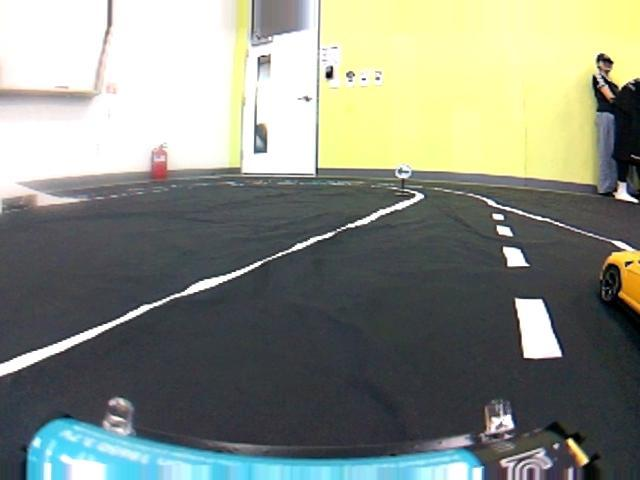car: (592, 238, 640, 374)
left: (0, 209, 639, 479)
